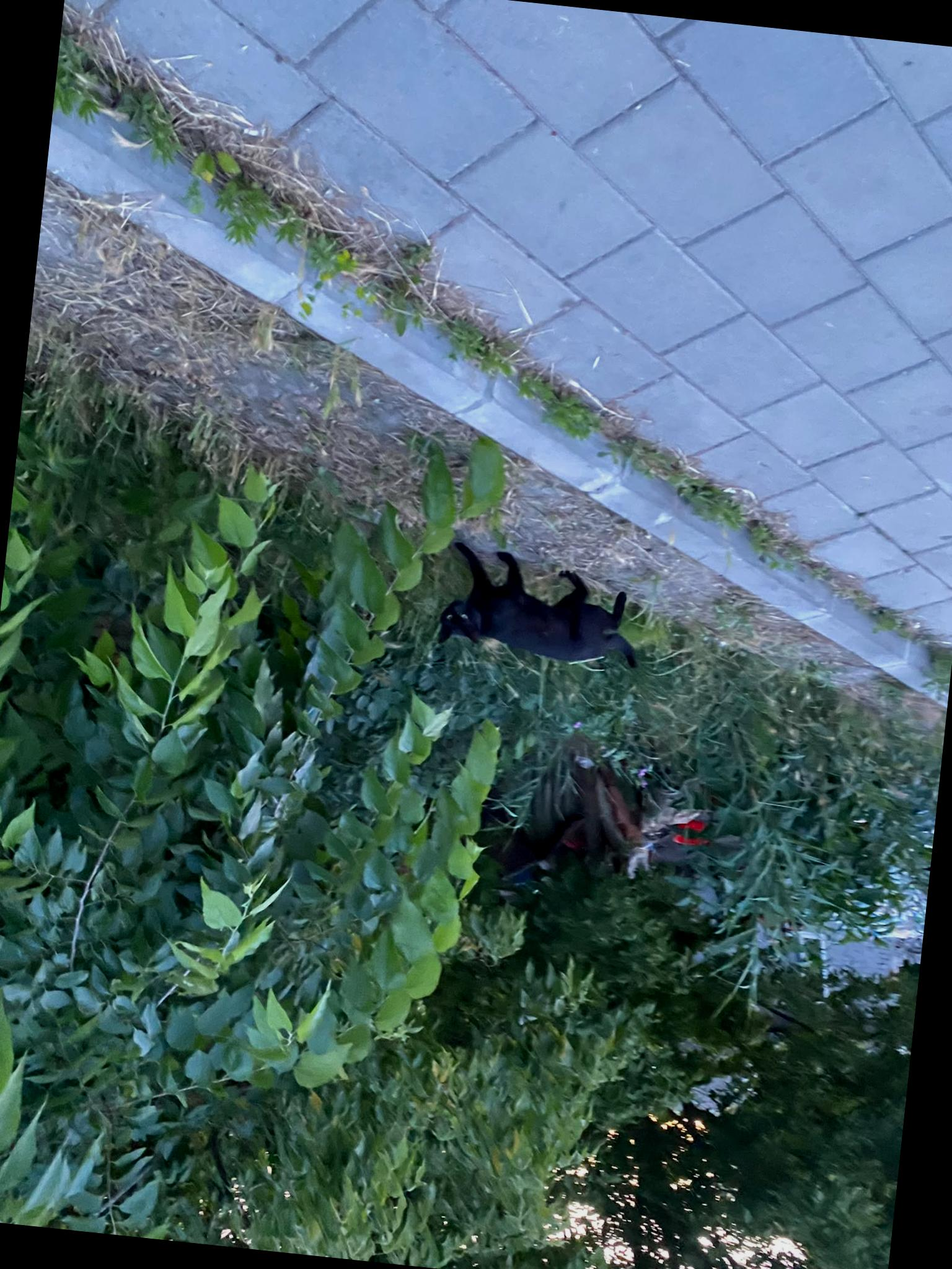macka: (437, 540, 648, 669)
